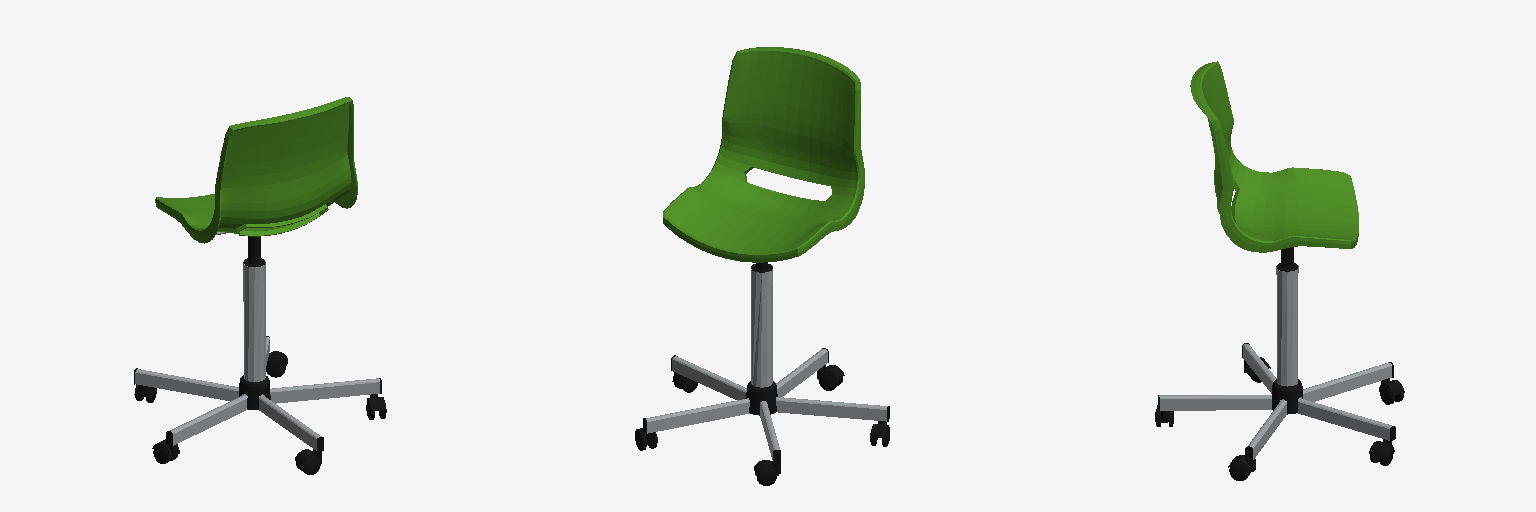
The picture shows the model from 3 angles: view 1: azimuth 30°, elevation 25°; view 2: azimuth 150°, elevation 25°; view 3: azimuth 270°, elevation 25°; orthographic projection.
Parts seen in each view (by area): view 1: Mesh2 Group2 SNILLE_IKEA1 Model, Mesh8 Group6 SNILLE_IKEA1 Model, Mesh7 Group5 SNILLE_IKEA1 Model, Mesh1 Group1 SNILLE_IKEA1 Model; view 2: Mesh2 Group2 SNILLE_IKEA1 Model, Mesh8 Group6 SNILLE_IKEA1 Model, Mesh7 Group5 SNILLE_IKEA1 Model, Mesh1 Group1 SNILLE_IKEA1 Model; view 3: Mesh2 Group2 SNILLE_IKEA1 Model, Mesh8 Group6 SNILLE_IKEA1 Model, Mesh7 Group5 SNILLE_IKEA1 Model, Mesh1 Group1 SNILLE_IKEA1 Model.
Boxes of the visible parts, x1=… form: Mesh2 Group2 SNILLE_IKEA1 Model: x1=155, y1=97, x2=357, y2=243; Mesh8 Group6 SNILLE_IKEA1 Model: x1=134, y1=336, x2=381, y2=451; Mesh7 Group5 SNILLE_IKEA1 Model: x1=243, y1=263, x2=265, y2=381; Mesh1 Group1 SNILLE_IKEA1 Model: x1=239, y1=375, x2=270, y2=409; Mesh2 Group2 SNILLE_IKEA1 Model: x1=663, y1=47, x2=864, y2=262; Mesh8 Group6 SNILLE_IKEA1 Model: x1=643, y1=348, x2=889, y2=464; Mesh7 Group5 SNILLE_IKEA1 Model: x1=751, y1=269, x2=772, y2=387; Mesh1 Group1 SNILLE_IKEA1 Model: x1=746, y1=381, x2=777, y2=415; Mesh2 Group2 SNILLE_IKEA1 Model: x1=1190, y1=61, x2=1358, y2=252; Mesh8 Group6 SNILLE_IKEA1 Model: x1=1158, y1=343, x2=1395, y2=461; Mesh7 Group5 SNILLE_IKEA1 Model: x1=1276, y1=267, x2=1298, y2=386; Mesh1 Group1 SNILLE_IKEA1 Model: x1=1272, y1=379, x2=1302, y2=414.
Bounding box in the file's own units: 0.5962 × 0.8919 × 0.5836.